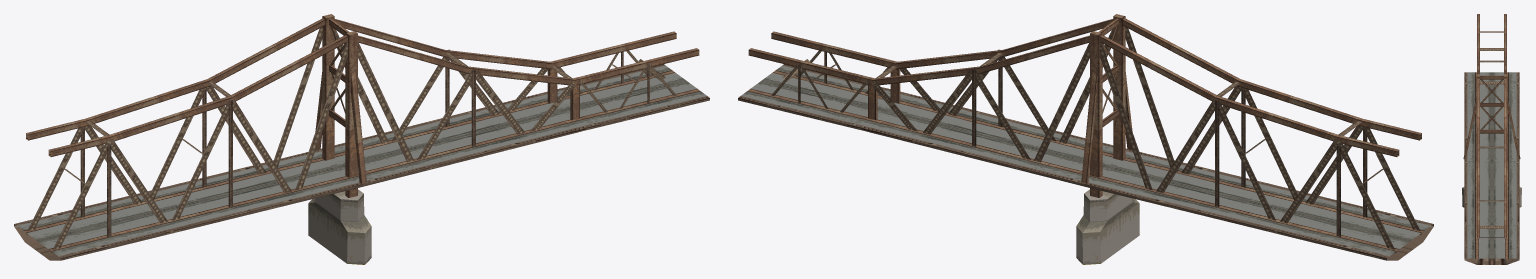
File: SM_Buildings_DoumerBridge_01.fbx
The picture shows the model from 3 angles, left to right: view 1: azimuth 30°, elevation 25°; view 2: azimuth 150°, elevation 25°; view 3: azimuth 270°, elevation 25°; orthographic projection. The views are drawn at different scales.
Parts seen in each view (by area): view 1: SM_Buildings_DoumerBridge_01; view 2: SM_Buildings_DoumerBridge_01; view 3: SM_Buildings_DoumerBridge_01.
Boxes of the visible parts, bbox=[...] form: SM_Buildings_DoumerBridge_01: bbox=[14, 14, 709, 264]; SM_Buildings_DoumerBridge_01: bbox=[738, 14, 1433, 264]; SM_Buildings_DoumerBridge_01: bbox=[1462, 14, 1521, 264].
Size of the model in its own units: 81.65 by 26.66 by 11.
